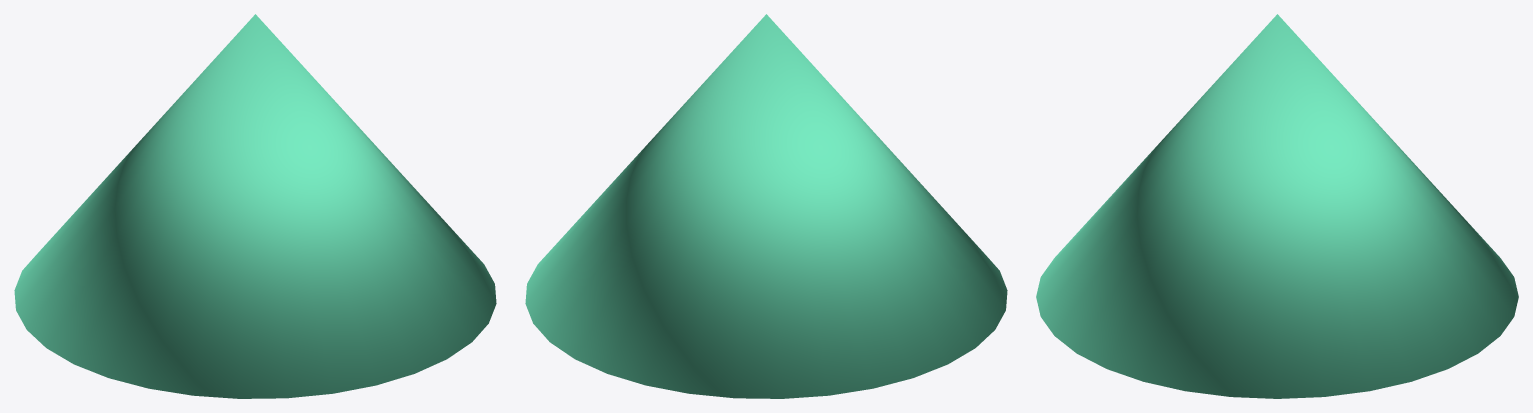
3 renders of one model, left to right at view 1: azimuth 30°, elevation 25°; view 2: azimuth 150°, elevation 25°; view 3: azimuth 270°, elevation 25°, orthographic.
Visible parts, largest first — view 1: Cone; view 2: Cone; view 3: Cone.
Boxes of the visible parts, x1,y1,x2,y2 form: Cone: (14,14,496,398); Cone: (525,14,1007,398); Cone: (1036,14,1518,398).
Bounding box in the file's own units: 3.4 × 2.2 × 3.4.
